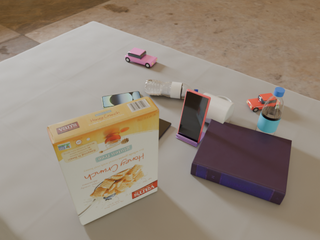book: (191, 119, 292, 205)
bottle: (256, 87, 285, 135), (145, 79, 198, 99)
box: (47, 97, 159, 225)
cup: (203, 93, 235, 123)
phone: (178, 89, 211, 143), (102, 91, 141, 109)
toy_car: (125, 48, 157, 68), (247, 93, 273, 112)
